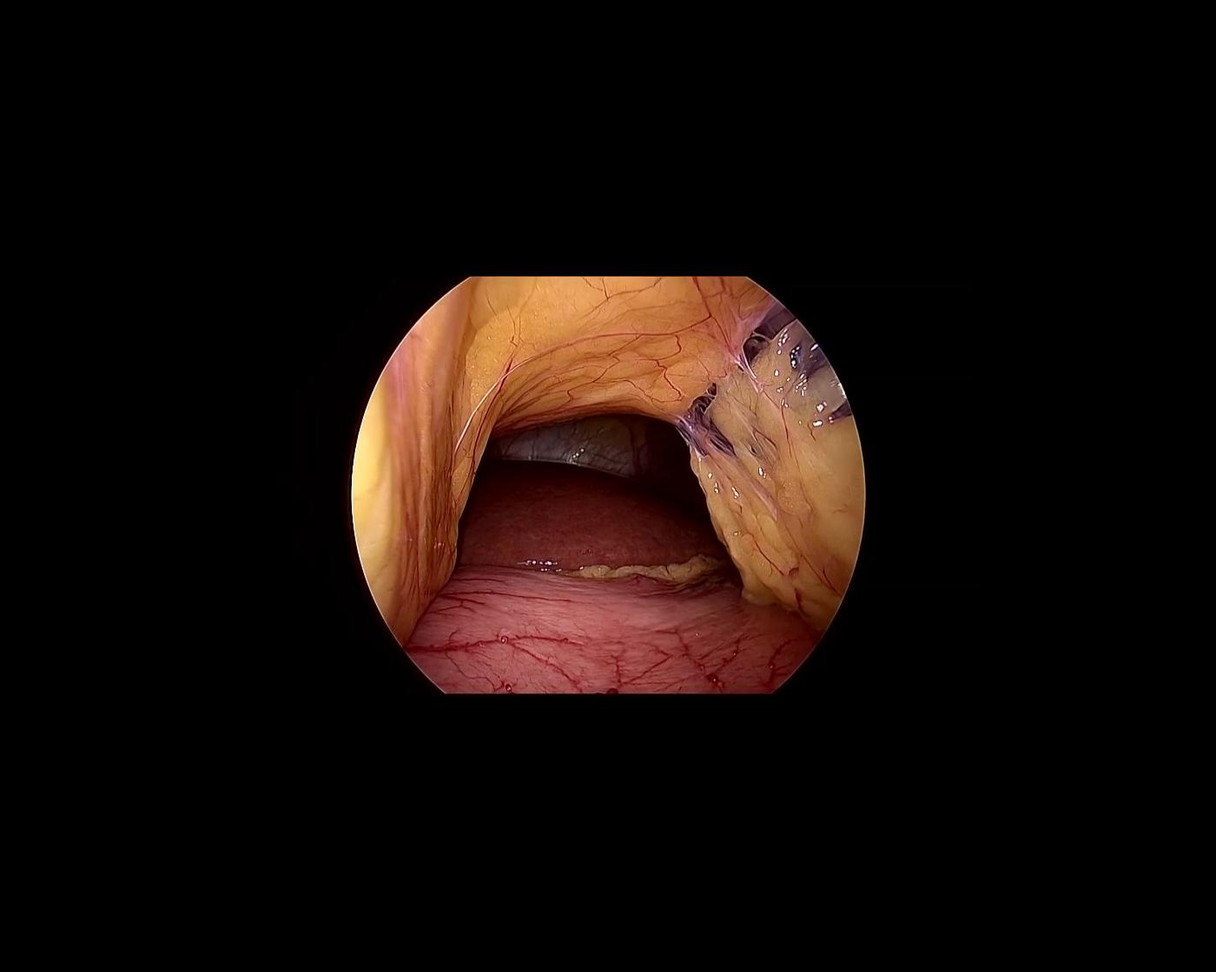Liver: (454, 454, 728, 598)
